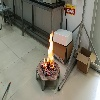fire: (43, 29, 54, 70)
